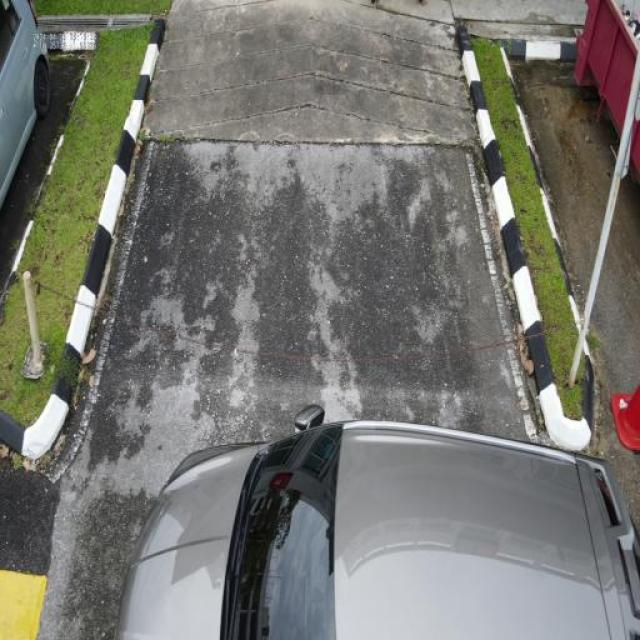illegalparking: (5, 359, 640, 640)
